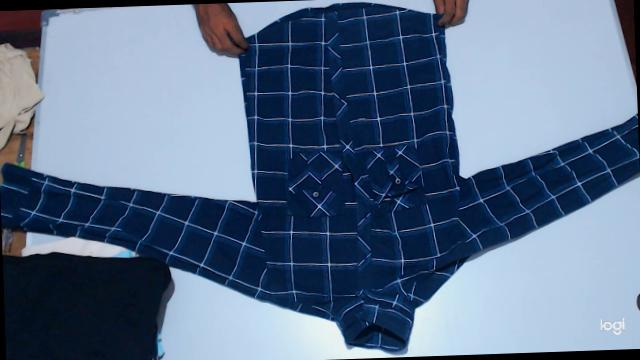new-garment: (1, 3, 640, 350)
